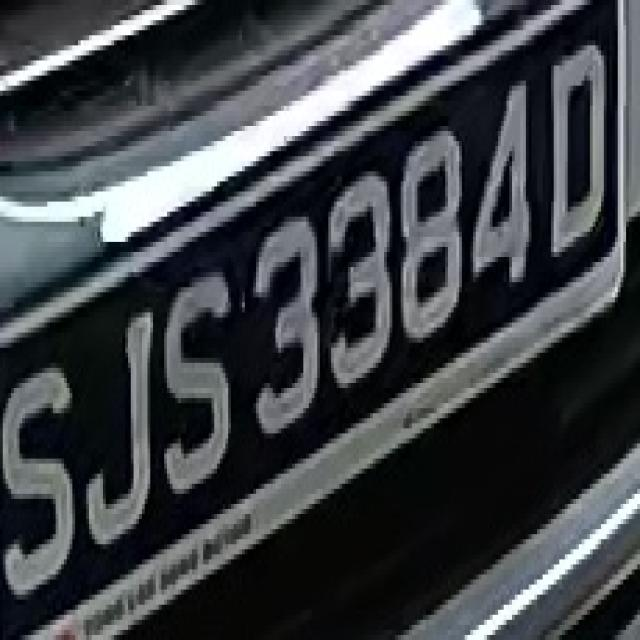3: (242, 196, 323, 458), (314, 172, 398, 418)
4: (462, 85, 543, 312)
8: (398, 126, 470, 348)
D: (537, 35, 609, 262)
J: (78, 288, 164, 550)
S: (6, 348, 84, 610), (161, 267, 242, 499)
